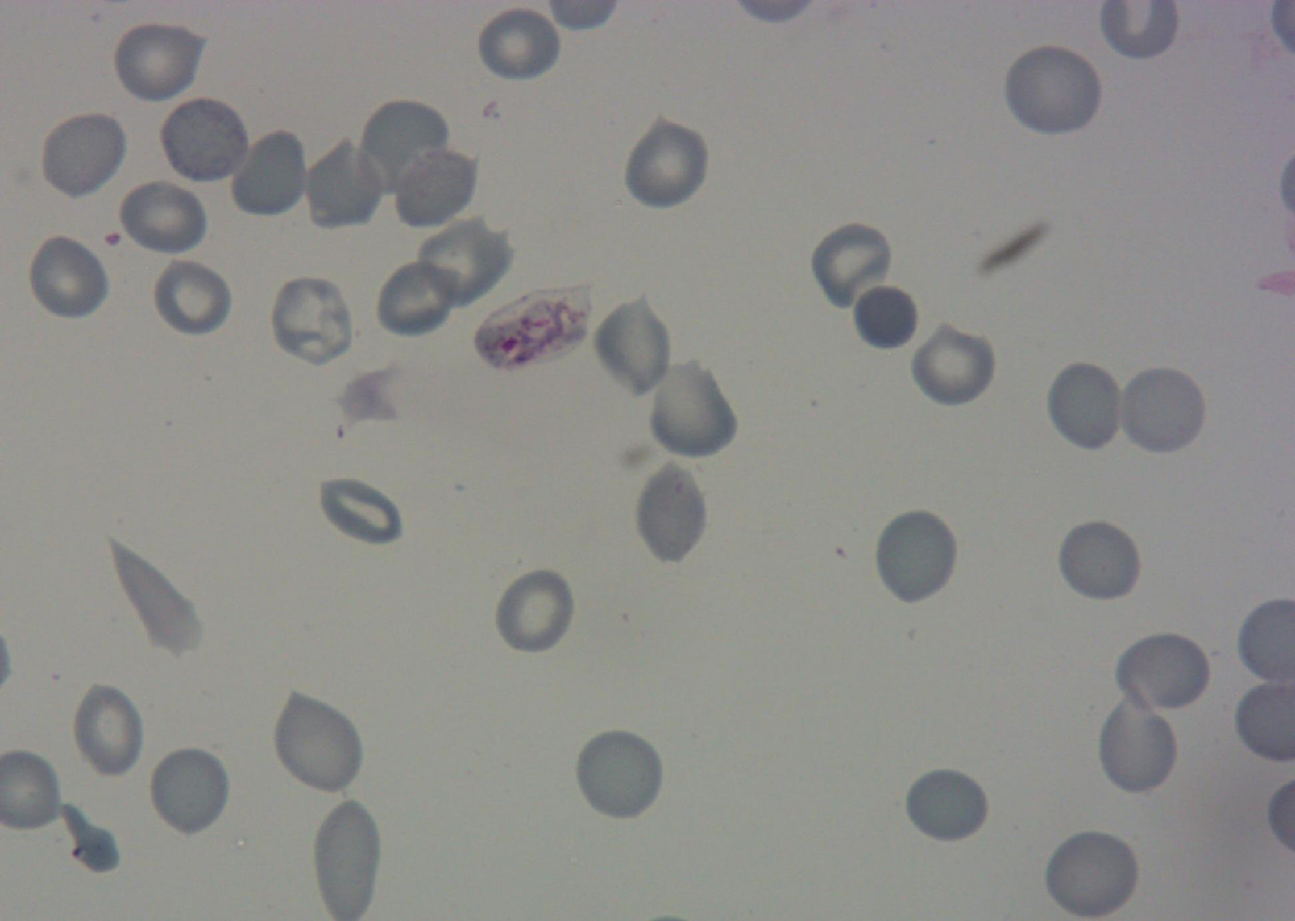Infected: (476, 281, 594, 368)
Uninfected: (270, 692, 366, 796), (1001, 44, 1106, 138), (113, 545, 197, 662), (646, 358, 739, 461), (314, 798, 390, 919), (1094, 692, 1182, 796), (414, 216, 512, 309), (1043, 826, 1142, 918), (1116, 364, 1208, 458), (591, 296, 675, 397), (37, 109, 130, 200), (621, 118, 711, 212), (109, 19, 206, 106), (875, 504, 961, 602), (157, 95, 250, 185), (580, 722, 665, 820), (67, 680, 150, 780), (268, 275, 358, 366), (490, 565, 579, 657), (809, 218, 897, 310), (907, 320, 999, 408), (632, 463, 711, 564), (1114, 629, 1210, 711), (147, 744, 232, 836), (302, 139, 386, 230), (115, 177, 209, 258), (25, 234, 111, 322), (1045, 360, 1126, 452), (392, 146, 482, 228), (149, 255, 235, 340), (362, 100, 450, 182), (372, 259, 459, 341), (229, 130, 309, 218), (902, 767, 991, 844), (318, 470, 407, 547), (1059, 519, 1141, 602), (479, 4, 554, 79), (847, 279, 922, 354)
